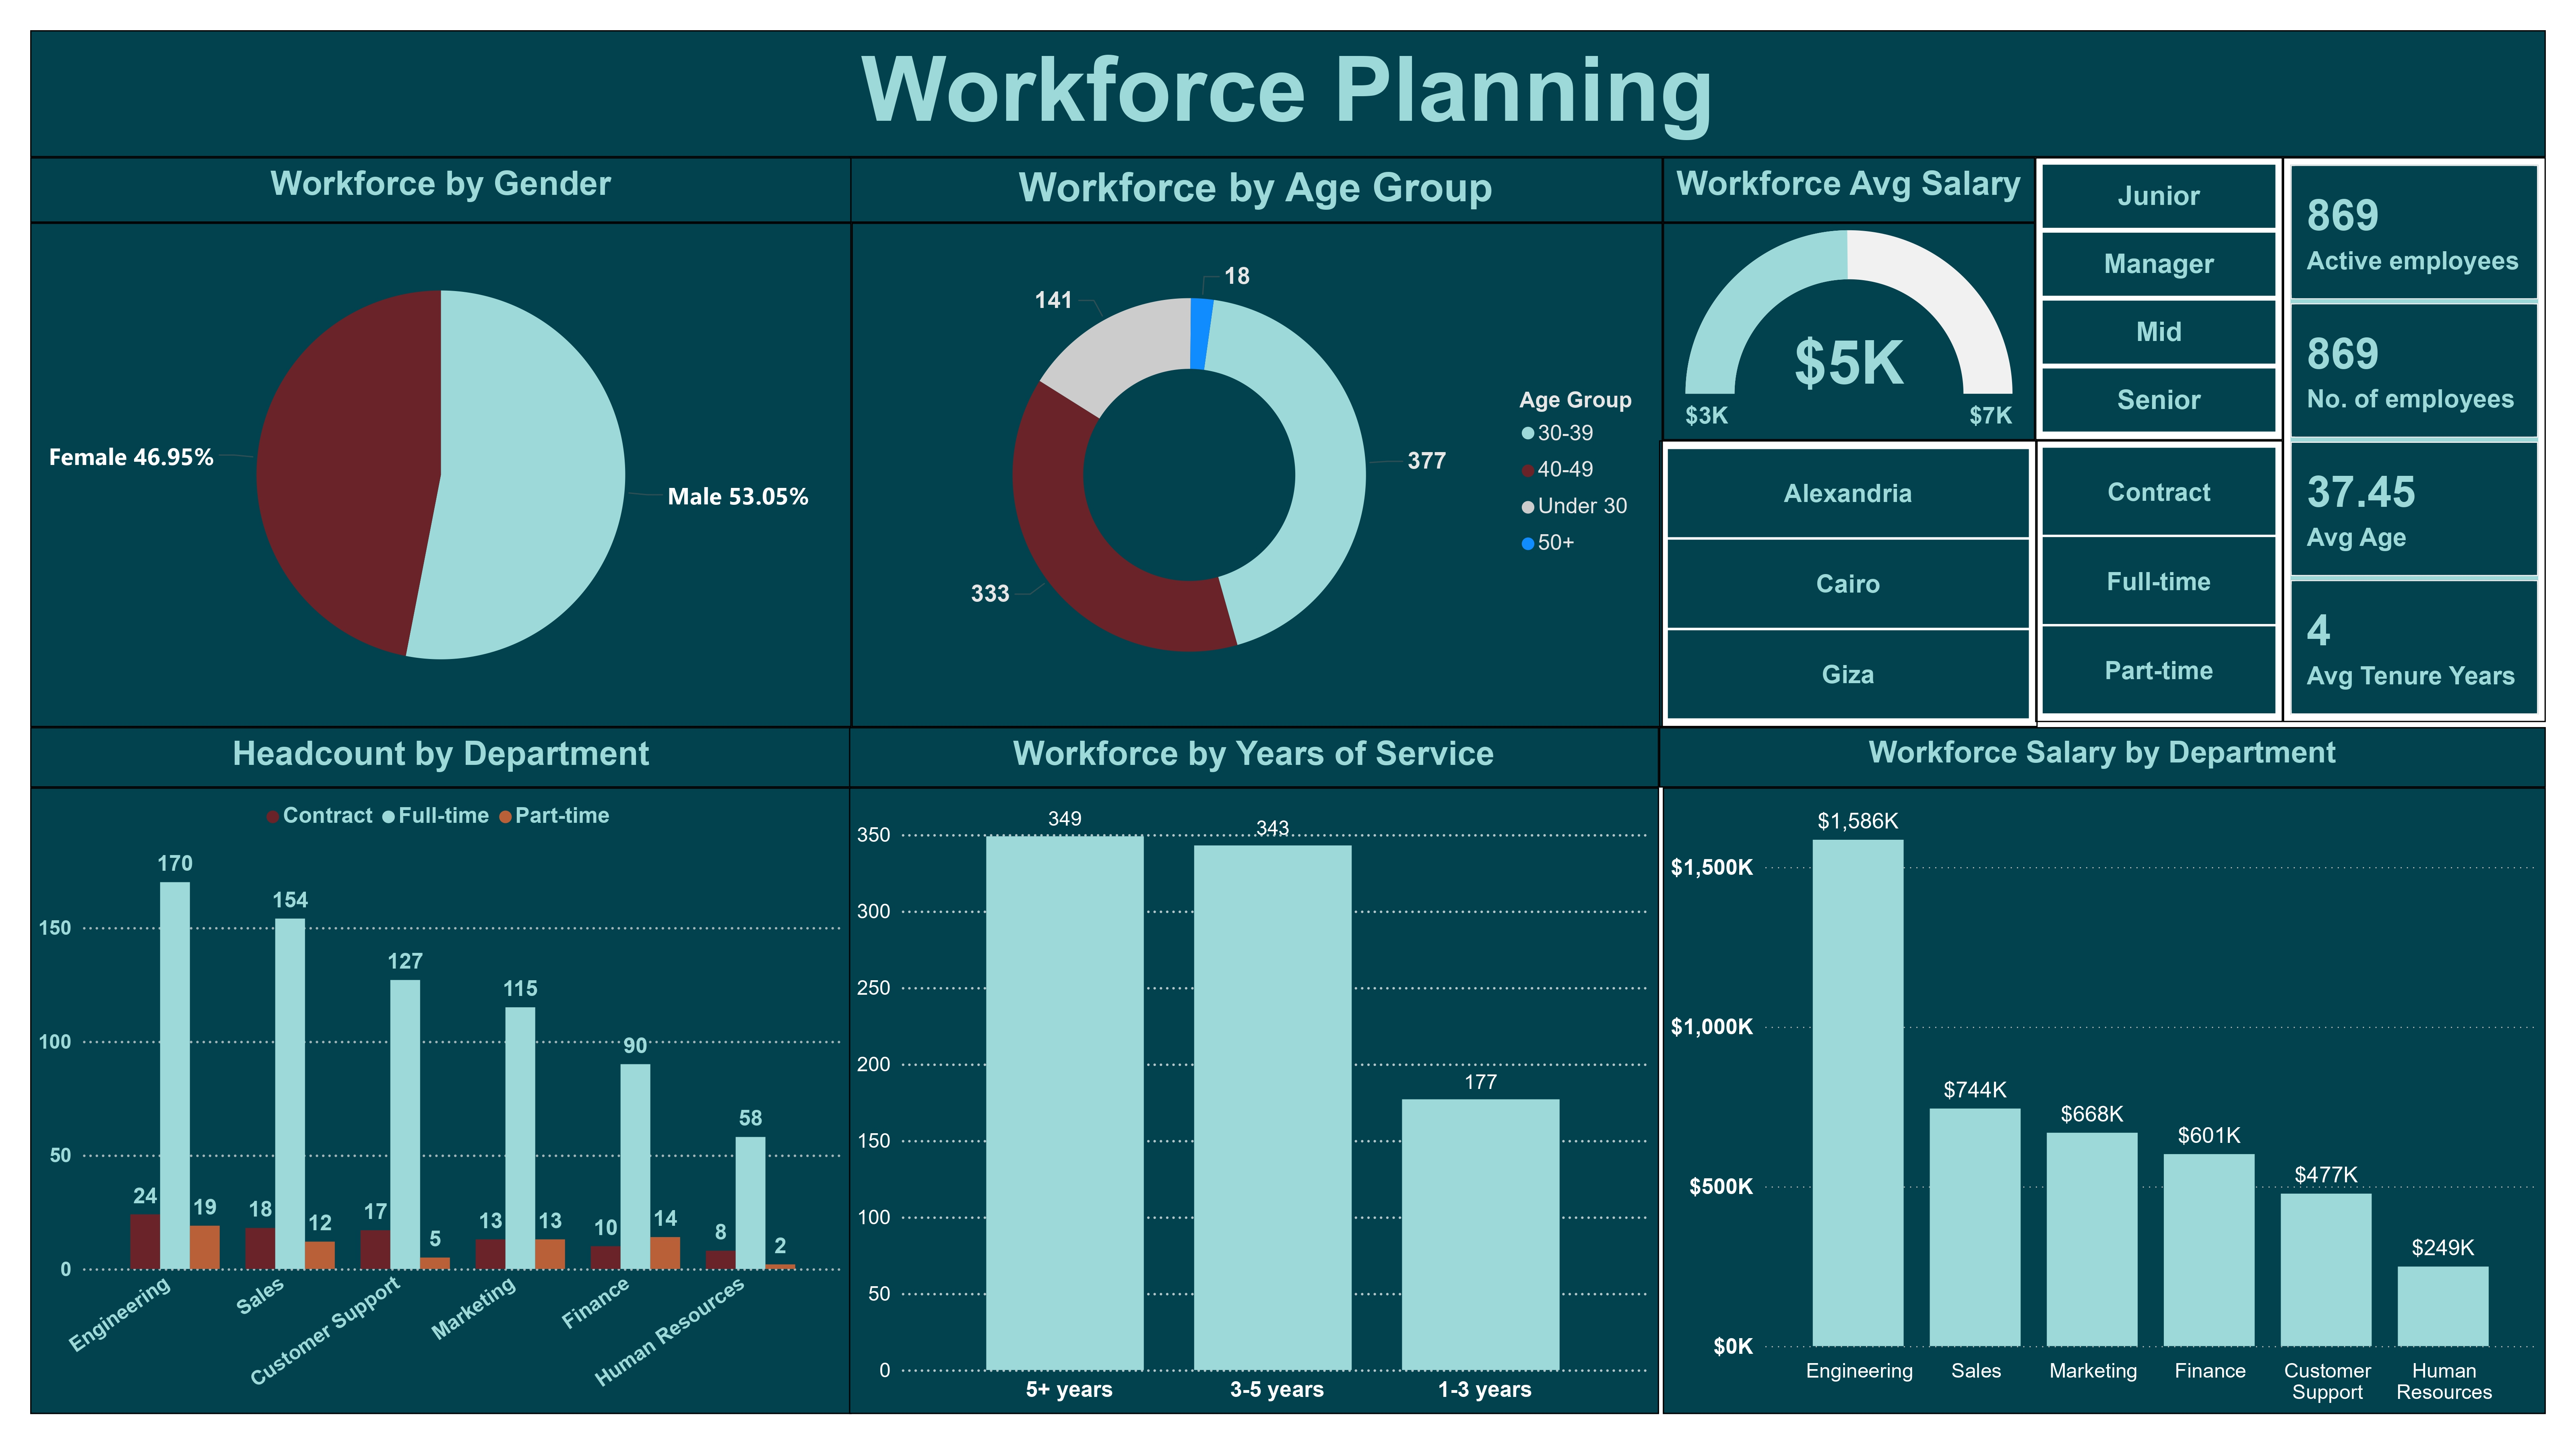

The page's visual inventory and layout, read from the dashboard file:
{"tool":"powerbi","page":{"name":"Workforce Planning","canvas":[2000,1100],"ordinal":2},"visuals":[{"type":"cardVisual","fields":{"Data":["Workforce_overview.Active employees","Workforce_overview.Total_employees","Workforce_overview.Avg Age","Workforce_overview.Avg Tenure Years"]},"box":[1791.4,101,208.8,449],"z":0},{"type":"clusteredColumnChart","fields":{"Category":["Workforce_overview.department_name"],"Y":["Workforce_overview.No. of employees"],"Series":["Workforce_overview.employment_type"]},"box":[0,601.6,653.3,498.4],"z":1000},{"type":"textbox","box":[0,554.5,653.3,47.1],"z":2000},{"type":"donutChart","fields":{"Category":["Workforce_overview.age_group"],"Y":["Workforce_overview.No. of employees"]},"box":[653.3,152.7,644.3,401.8],"z":3000},{"type":"textbox","box":[651,101,646.5,51.6],"z":4000},{"type":"pieChart","fields":{"Category":["Workforce_overview.gender"],"Y":["Workforce_overview.No. of employees"]},"box":[0,152.7,653.3,401.8],"z":5000},{"type":"textbox","box":[0,101,653.3,51.6],"z":6000},{"type":"columnChart","fields":{"Category":["Workforce_overview.tenure_band"],"Y":["Workforce_overview.No. of employees"]},"box":[651,601.6,644.3,498.4],"z":7000},{"type":"listSlicer","fields":{"Values":["Workforce_overview.job_level"]},"box":[1593.9,101,197.6,224.5],"z":8000},{"type":"textbox","box":[651,554.5,644.3,47.1],"z":9000},{"type":"listSlicer","fields":{"Values":["Workforce_overview.employment_type"]},"box":[1593.9,325.5,197.6,224.5],"z":10000},{"type":"gauge","fields":{"Y":["Avg(Workforce_overview.current_salary)"],"MinValue":["Avg(Workforce_overview.min_salary)"],"MaxValue":["Avg(Workforce_overview.max_salary)"]},"box":[1297.6,152.7,296.3,172.9],"z":11000},{"type":"textbox","box":[1297.6,101,296.3,51.6],"z":12000},{"type":"textbox","box":[0,0,2000.2,101],"z":13000},{"type":"clusteredColumnChart","fields":{"Y":["Sum(Workforce_overview.current_salary)"],"Category":["Workforce_overview.department_name"]},"box":[1297.6,601.6,702.7,498.4],"z":14000},{"type":"textbox","box":[1295.3,554.5,704.9,47.1],"z":15000},{"type":"listSlicer","fields":{"Values":["Workforce_overview.city"]},"box":[1295.3,325.5,300.8,229],"z":16000}]}

Visuals, with their boxes on the page's 2000x1100 design canvas (x1, y1, x2, y2). These are canvas units, not pixel positions in the 2576x1444 screenshot, which may show the page scaled, cropped or inside an application window:
cardVisual - Workforce_overview.Active employees x Workforce_overview.Total_employees: [left=1791, top=101, right=2000, bottom=550]
clusteredColumnChart - Workforce_overview.department_name x Workforce_overview.No. of employees: [left=0, top=602, right=653, bottom=1100]
textbox: [left=0, top=554, right=653, bottom=602]
donutChart - Workforce_overview.age_group x Workforce_overview.No. of employees: [left=653, top=153, right=1298, bottom=554]
textbox: [left=651, top=101, right=1298, bottom=153]
pieChart - Workforce_overview.gender x Workforce_overview.No. of employees: [left=0, top=153, right=653, bottom=554]
textbox: [left=0, top=101, right=653, bottom=153]
columnChart - Workforce_overview.tenure_band x Workforce_overview.No. of employees: [left=651, top=602, right=1295, bottom=1100]
listSlicer - Workforce_overview.job_level: [left=1594, top=101, right=1792, bottom=326]
textbox: [left=651, top=554, right=1295, bottom=602]
listSlicer - Workforce_overview.employment_type: [left=1594, top=326, right=1792, bottom=550]
gauge - Avg(Workforce_overview.current_salary) x Avg(Workforce_overview.min_salary): [left=1298, top=153, right=1594, bottom=326]
textbox: [left=1298, top=101, right=1594, bottom=153]
textbox: [left=0, top=0, right=2000, bottom=101]
clusteredColumnChart - Sum(Workforce_overview.current_salary) x Workforce_overview.department_name: [left=1298, top=602, right=2000, bottom=1100]
textbox: [left=1295, top=554, right=2000, bottom=602]
listSlicer - Workforce_overview.city: [left=1295, top=326, right=1596, bottom=554]
